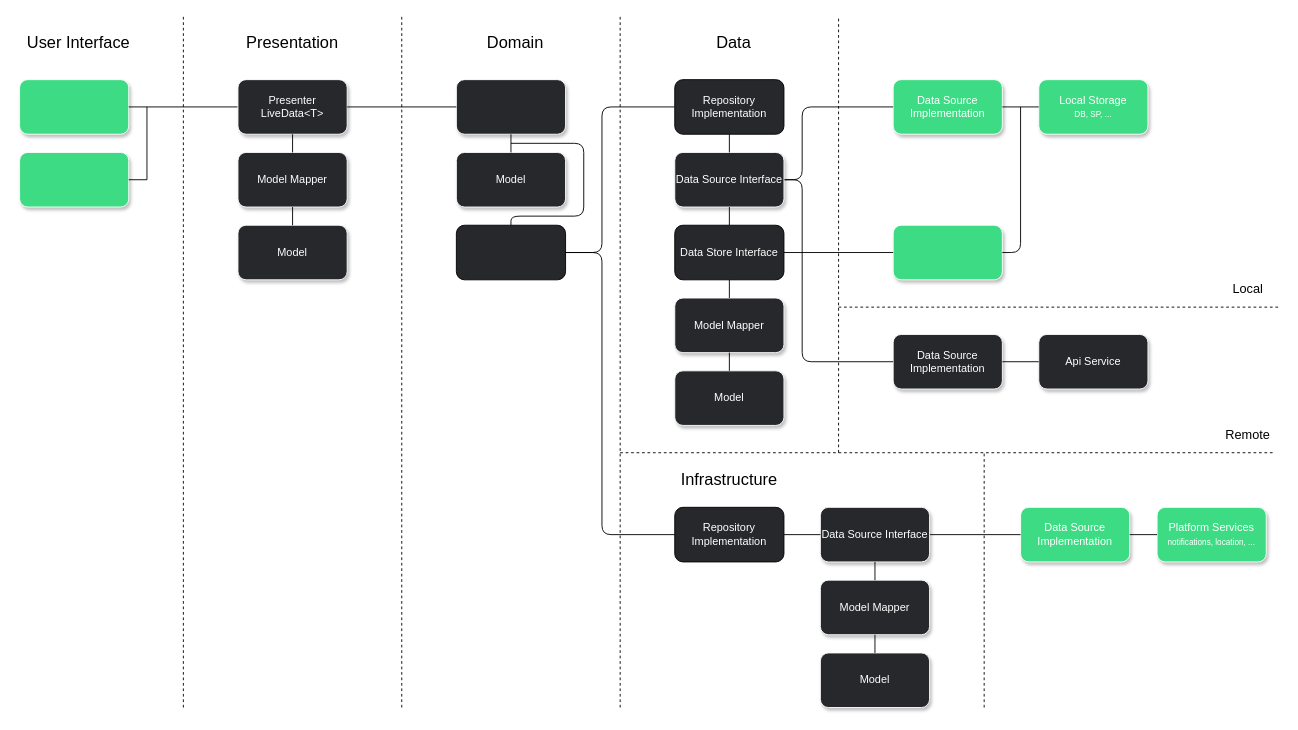
Image size: 1298x730. Some labels were removed from this diagram. Each missing label, with the centre of its shape:
"Activity" belongs at pixel 74 108.
"Data Store Implementation" belongs at pixel 948 253.
"Fragment" belongs at pixel 74 180.
"Repository Interface" belongs at pixel 510 252.
"Use Case" belongs at pixel 511 108.
